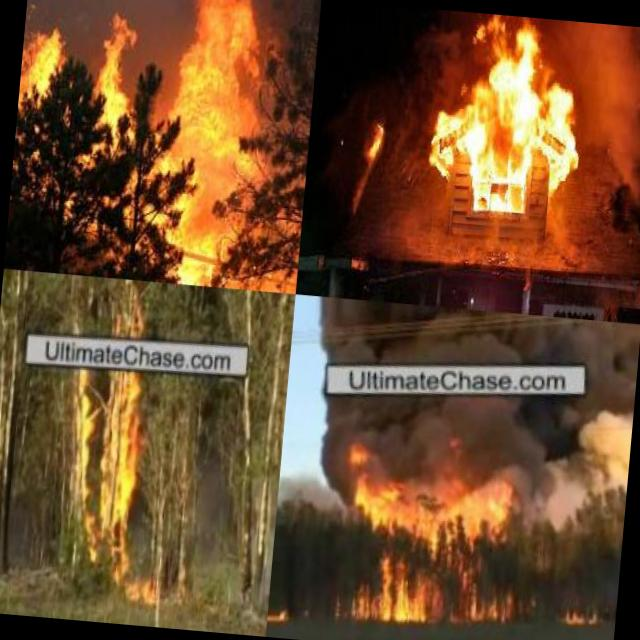fire: (3, 0, 321, 293), (426, 13, 588, 219), (48, 372, 178, 609), (334, 470, 516, 634), (564, 600, 610, 628), (266, 601, 294, 625)
smoke: (306, 398, 521, 506), (493, 391, 634, 538)
